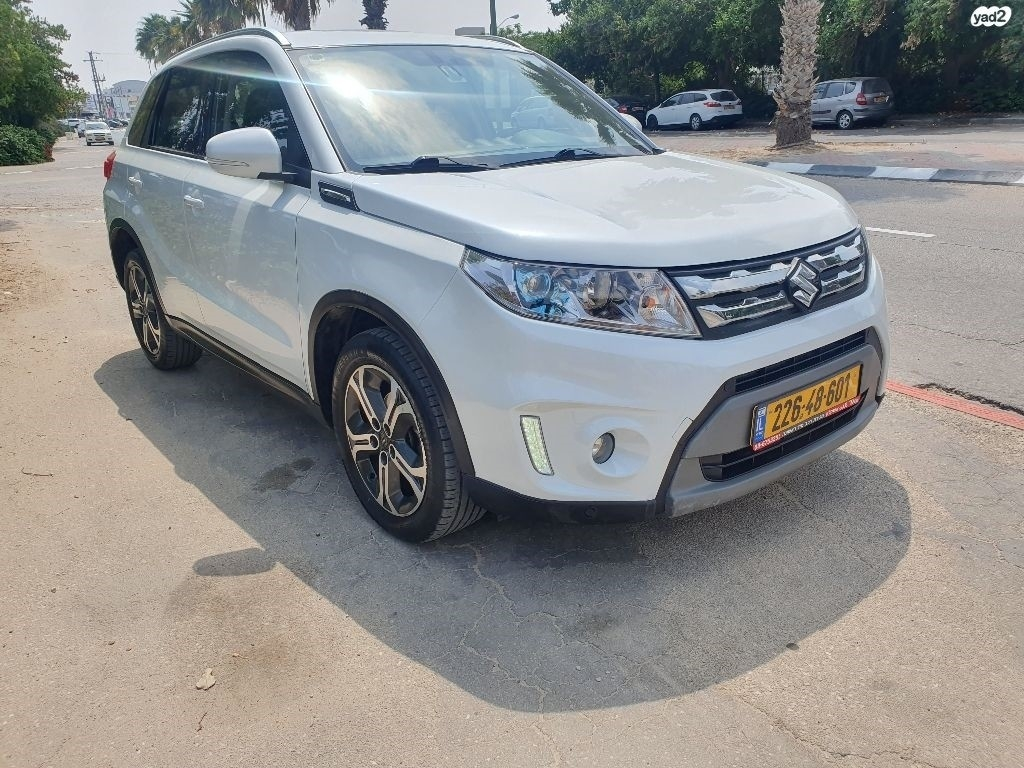licence: (749, 360, 863, 451)
